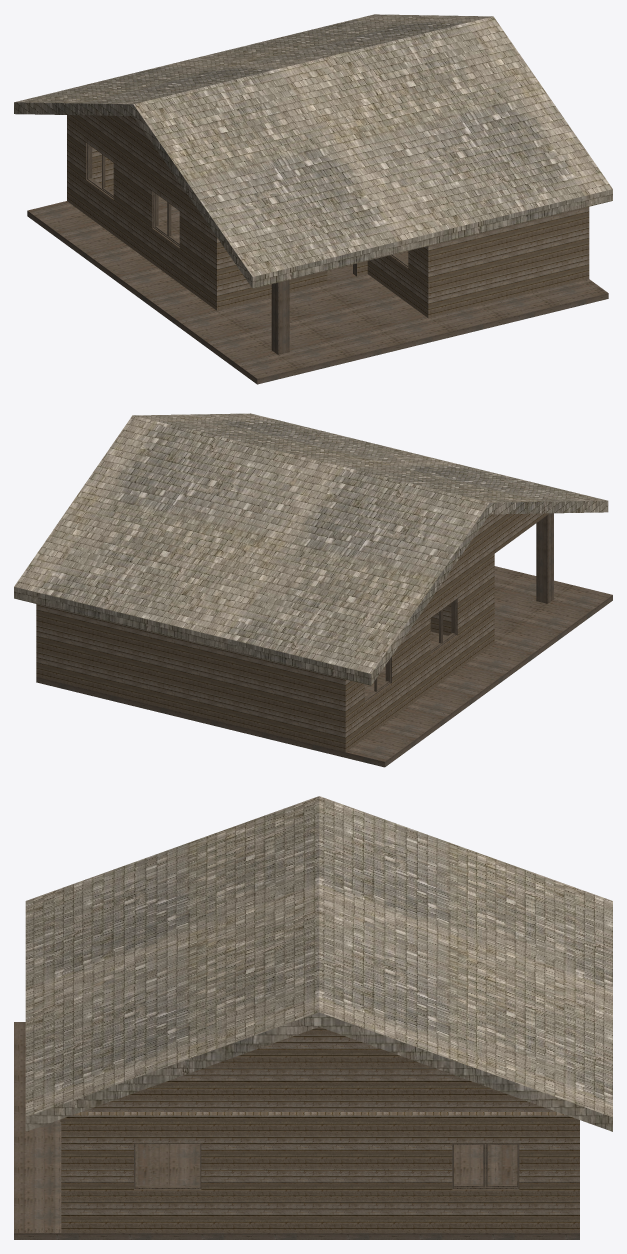
The model's file is cabana.glb.
The picture shows the model from 3 angles, top to bottom: view 1: azimuth 30°, elevation 25°; view 2: azimuth 150°, elevation 25°; view 3: azimuth 270°, elevation 25°; orthographic projection. The views are drawn at different scales.
Parts seen in each view (by area): view 1: Material_003-material, Material_001-material, Material_002-material; view 2: Material_003-material, Material_001-material, Material_002-material; view 3: Material_003-material, Material_001-material, Material_002-material.
Part boxes in pixels (x1,y1,x2,y2): Material_003-material: [14, 14, 612, 288]; Material_001-material: [67, 115, 589, 318]; Material_002-material: [27, 143, 608, 384]; Material_003-material: [14, 413, 608, 685]; Material_001-material: [36, 513, 549, 752]; Material_002-material: [36, 513, 612, 767]; Material_003-material: [25, 796, 612, 1131]; Material_001-material: [60, 1027, 579, 1232]; Material_002-material: [14, 1022, 579, 1239].
Bounding box in the file's own units: 24.4 × 12.25 × 28.54.
Materials: 4 (4 with a texture image).
